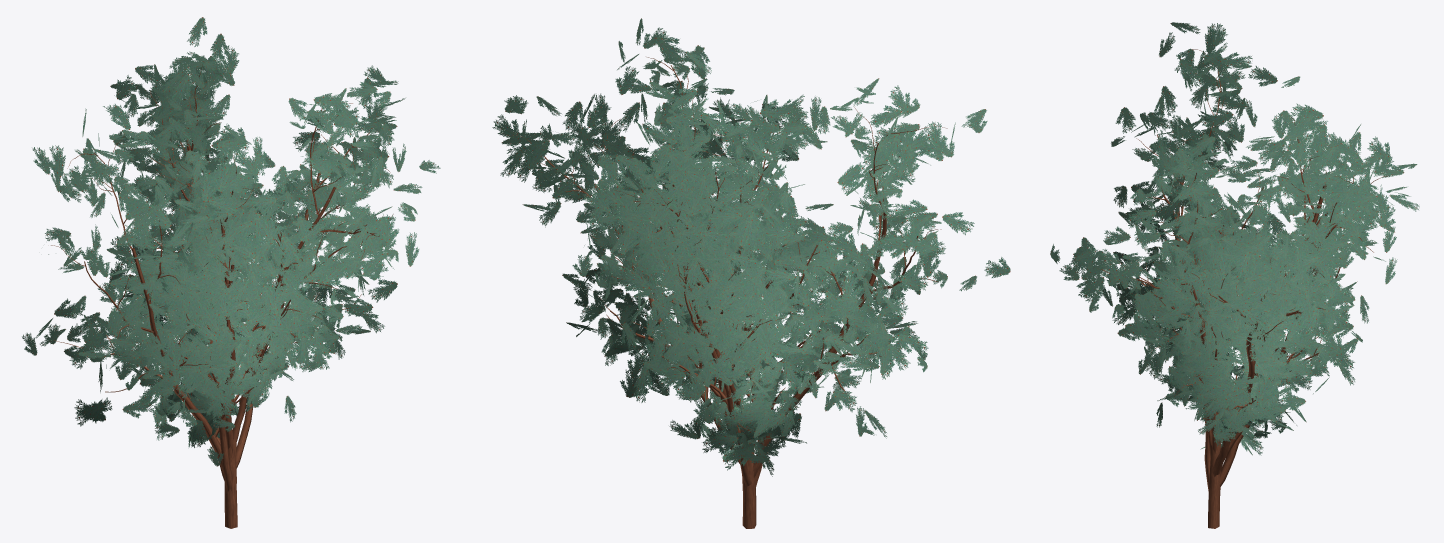
File: JU3_Juniper_SmallTree_4.2m.glb
The picture shows the model from 3 angles, left to right: view 1: azimuth 30°, elevation 25°; view 2: azimuth 150°, elevation 25°; view 3: azimuth 270°, elevation 25°; orthographic projection. The views are drawn at different scales.
Visible parts, largest first — view 1: JU3_leaves, JU3_wood; view 2: JU3_leaves, JU3_wood; view 3: JU3_leaves, JU3_wood.
Part boxes in pixels (box(x1,y1,x2,y2)): JU3_leaves: box(22, 17, 440, 466); JU3_wood: box(51, 64, 393, 528); JU3_leaves: box(492, 18, 1010, 476); JU3_wood: box(513, 57, 947, 528); JU3_leaves: box(1050, 22, 1419, 455); JU3_wood: box(1101, 49, 1387, 528).
Size of the model in its own units: 3.97 by 4.2 by 3.16.
Materials: 2 (2 with a texture image).
